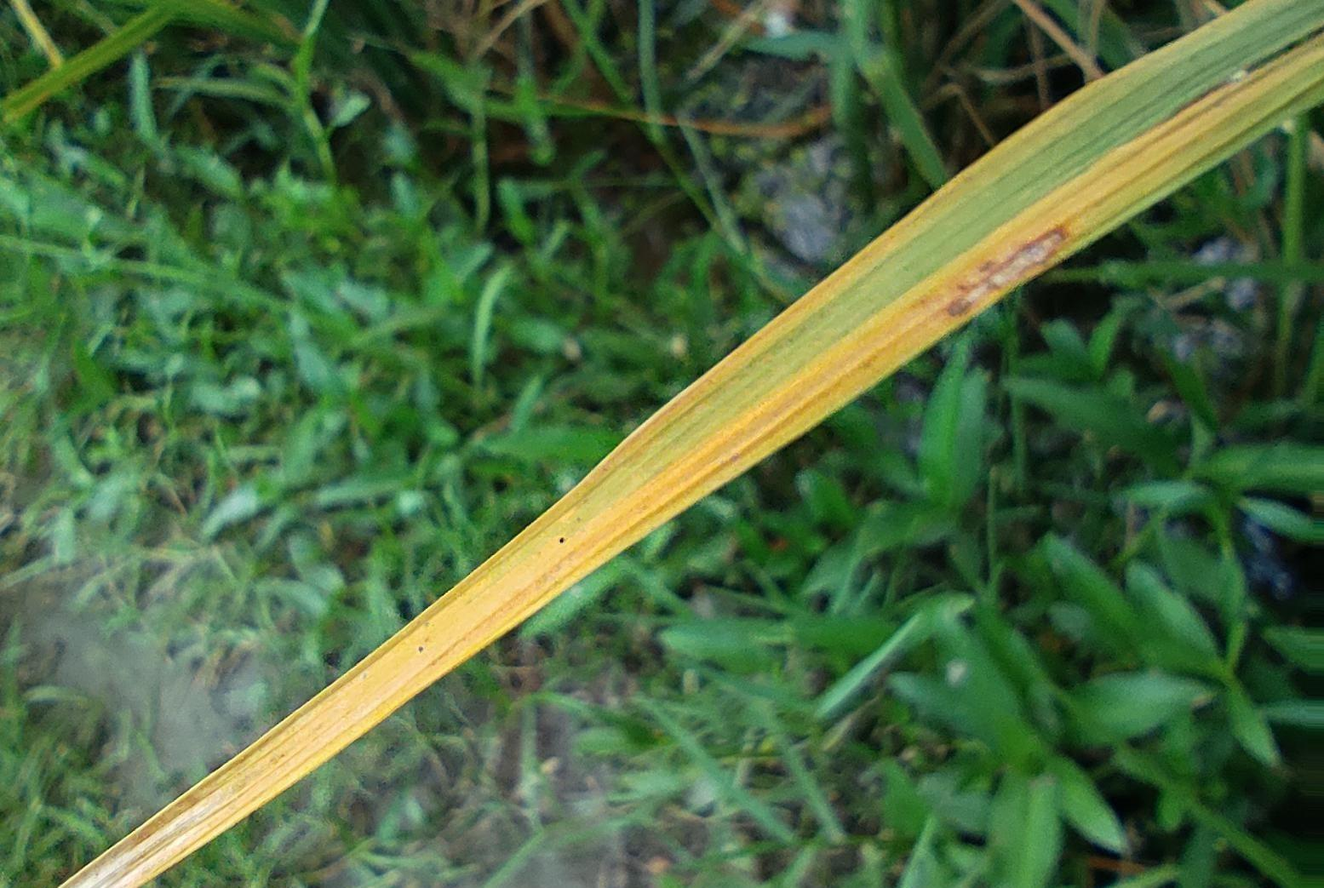LEAF: (61, 0, 1323, 887)
LEAF BLAST: (947, 227, 1066, 316)
